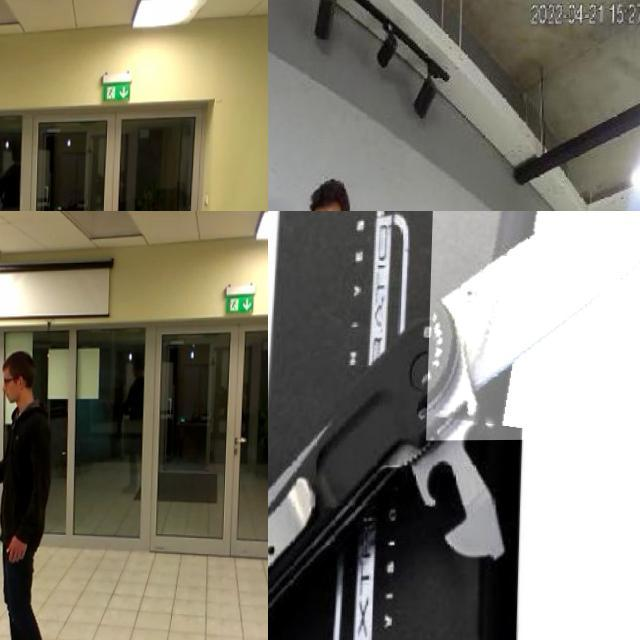-: (428, 211, 640, 440)
gun-knife-thesis - v11 Yolov5 augmented: (0, 440, 16, 477)
